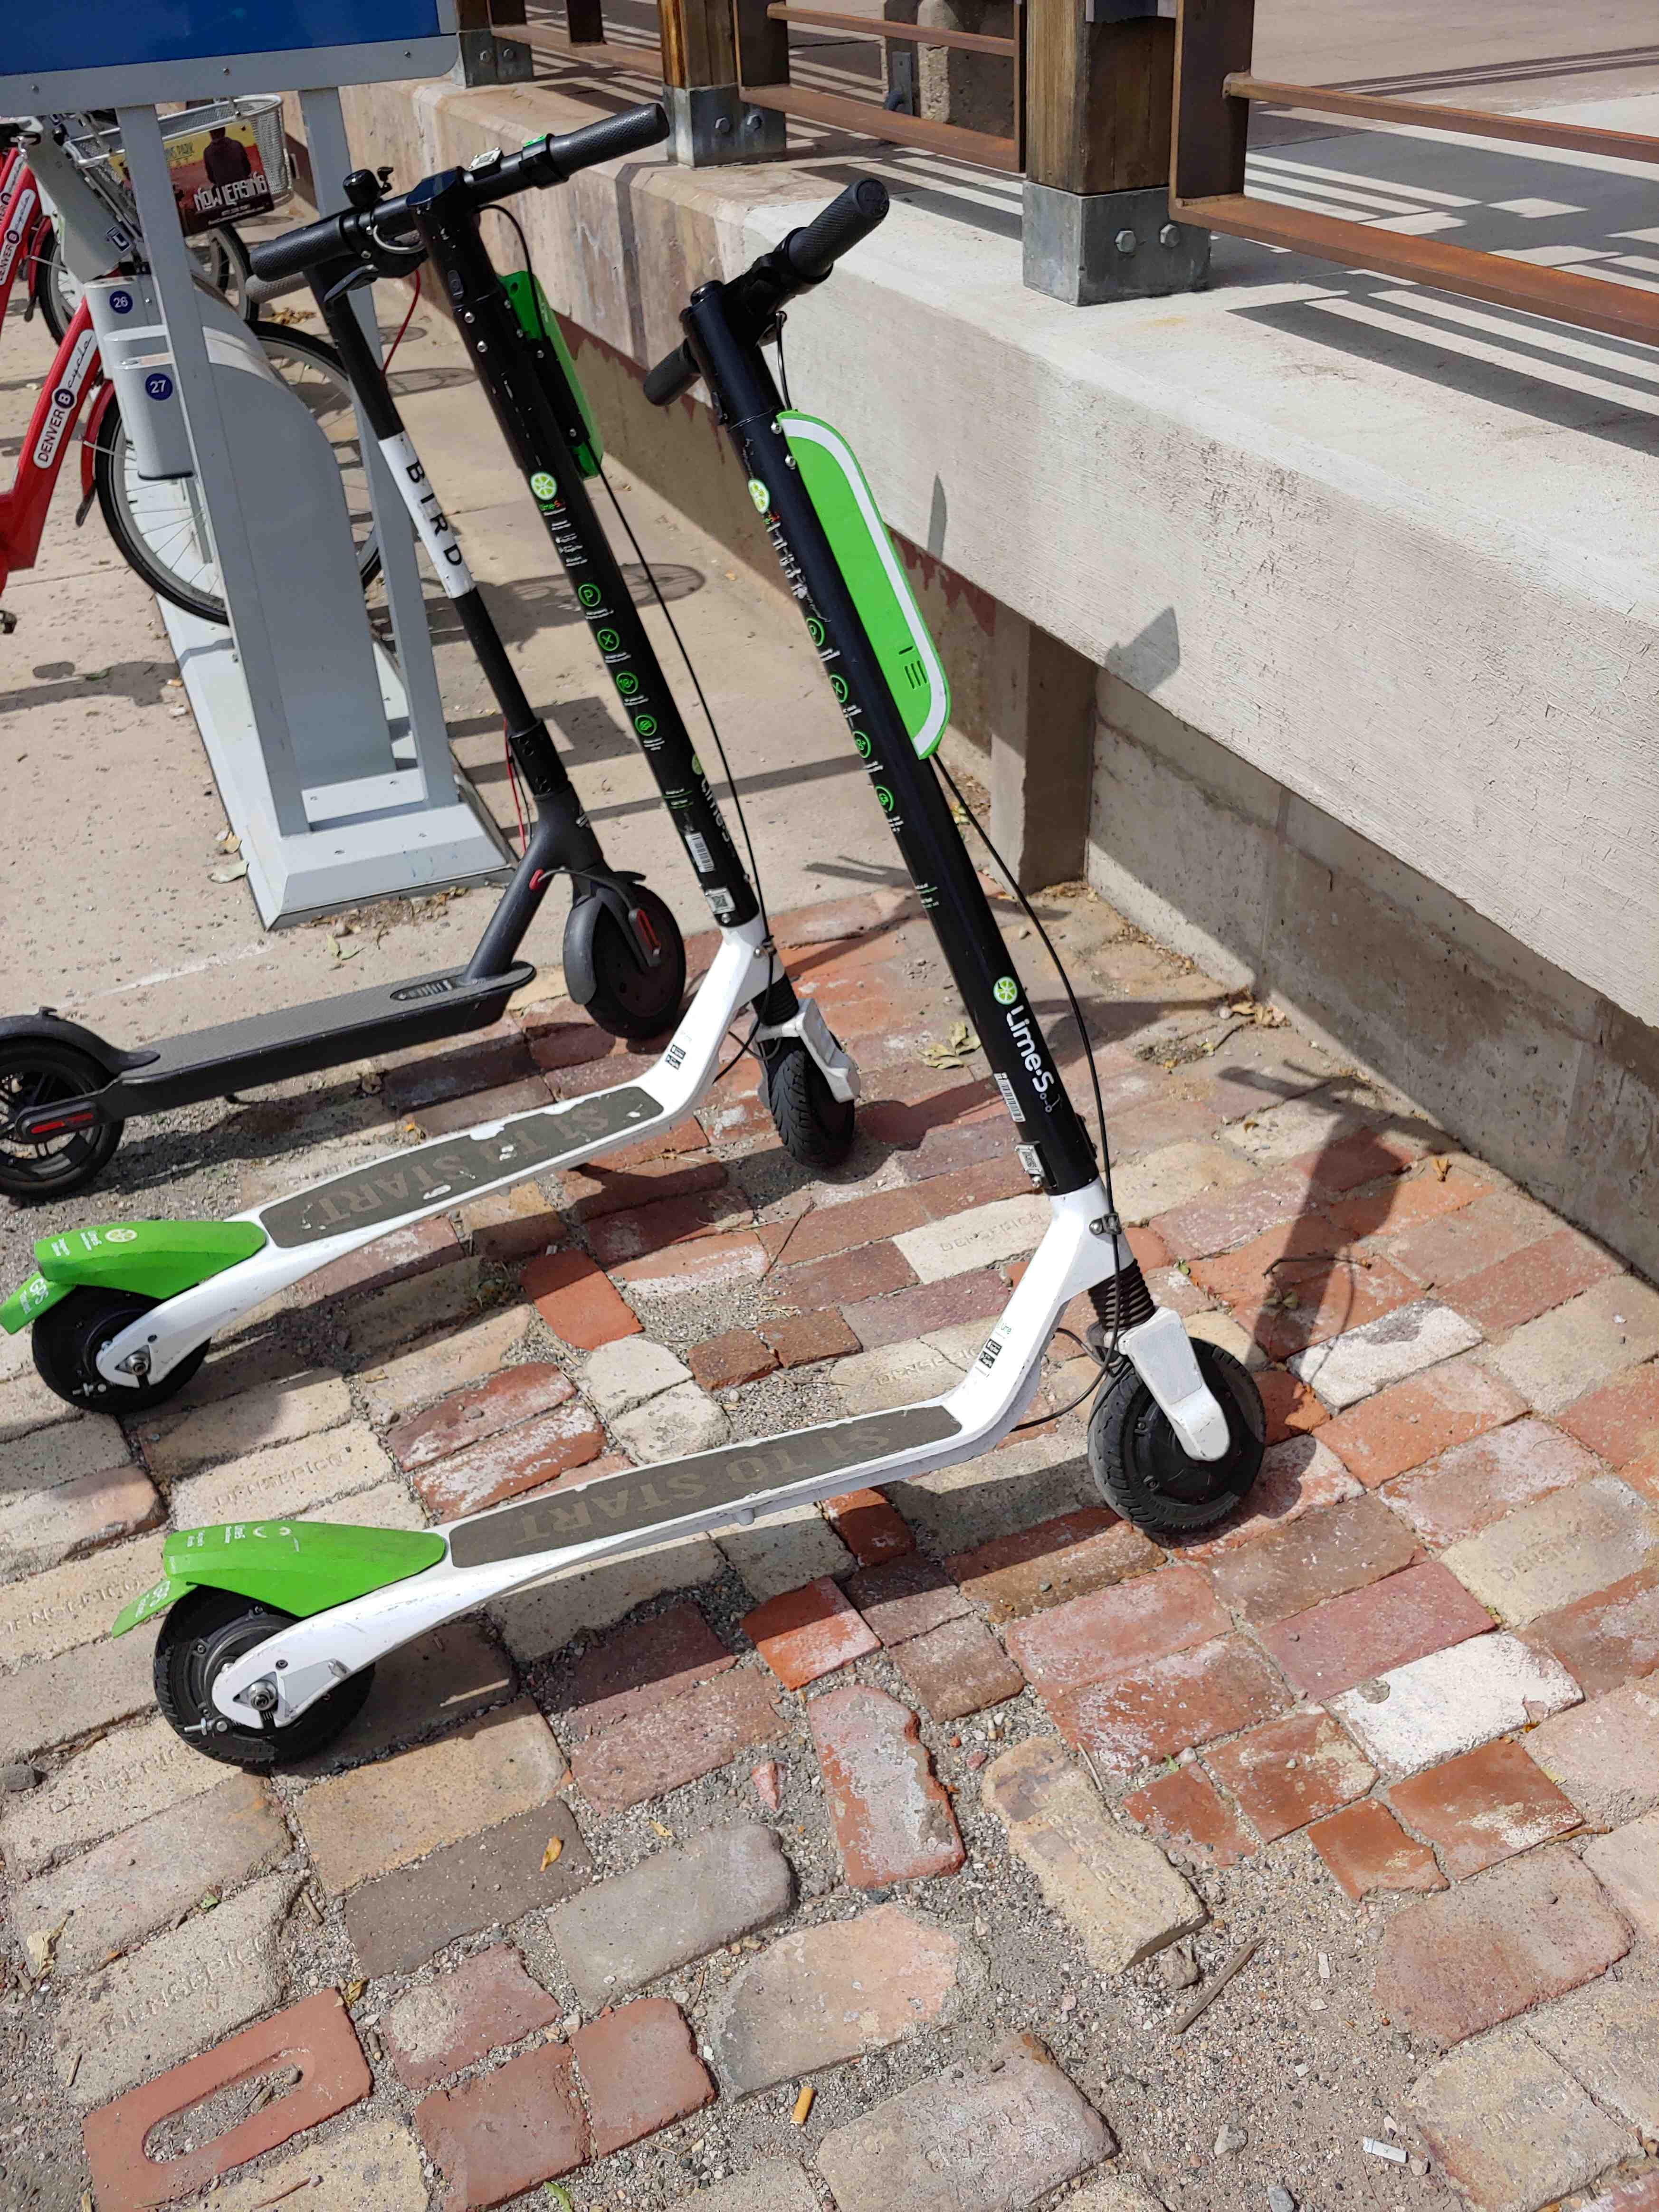scooter: (125, 150, 1300, 1834), (7, 75, 915, 1472)
